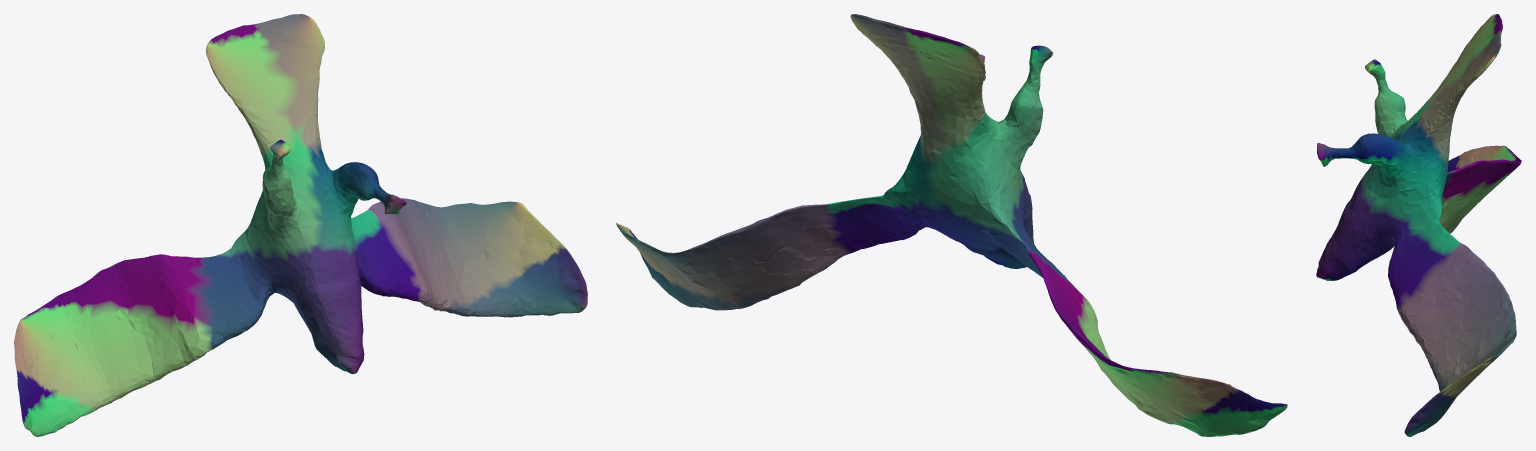
The model's file is bird2-12.off.obj.
3 views of the same model, side by side, from view 1: azimuth 30°, elevation 25°; view 2: azimuth 150°, elevation 25°; view 3: azimuth 270°, elevation 25° (orthographic). The views are drawn at different scales.
Bounding box in the file's own units: 1.61 × 0.8894 × 0.5657.
